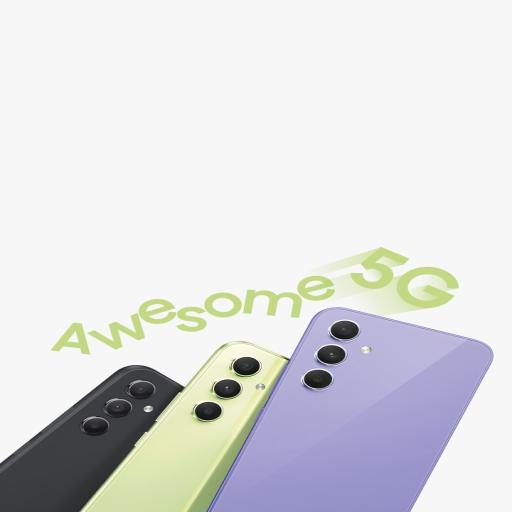phone: (207, 309, 503, 512)
